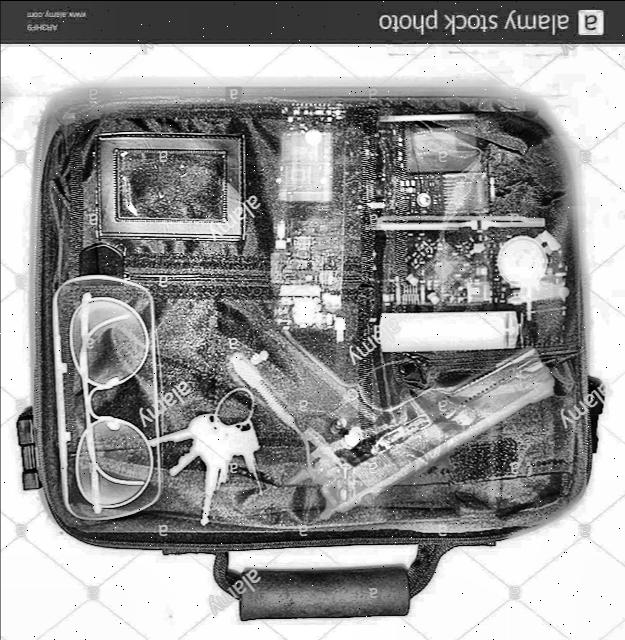Gun: (222, 325, 558, 509)
